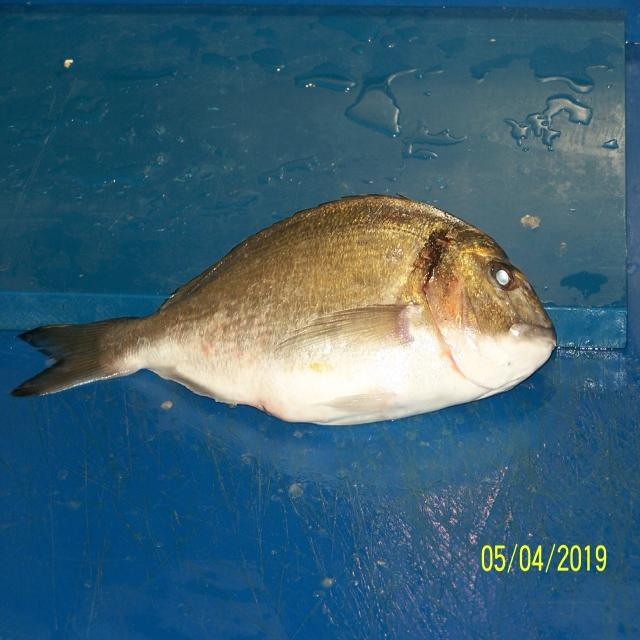Gilt-Head-Bream-c-ipura-: (11, 194, 558, 428)
